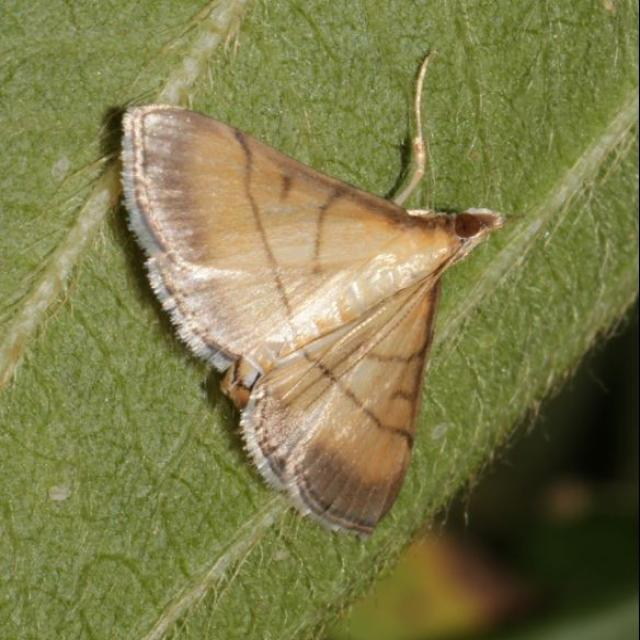rice leaf roller -penggulung daun padi-: (113, 84, 505, 542)
